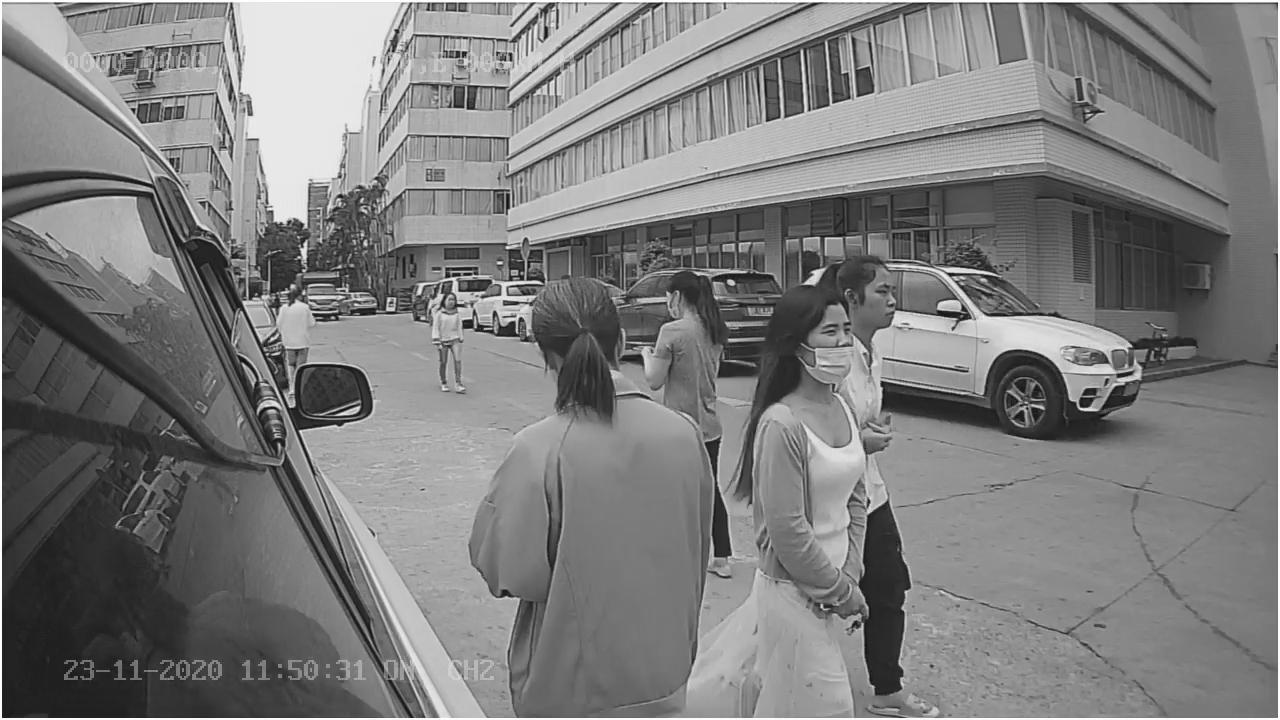person: (465, 271, 718, 624)
